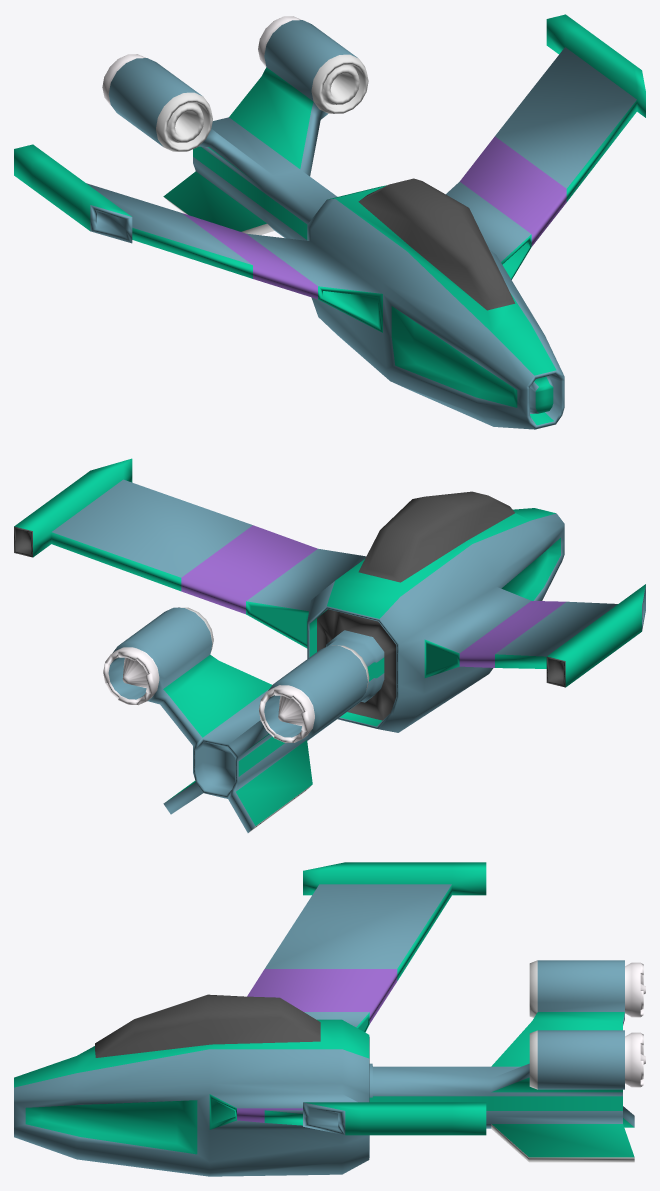
The model's file is spaceship.glb.
3 renders of one model, top to bottom at view 1: azimuth 30°, elevation 25°; view 2: azimuth 150°, elevation 25°; view 3: azimuth 270°, elevation 25°, orthographic. The views are drawn at different scales.
Parts seen in each view (by area): view 1: SpaceShip; view 2: SpaceShip; view 3: SpaceShip.
Part boxes in pixels (<box>): SpaceShip: <box>14,14,645,429</box>; SpaceShip: <box>14,458,645,832</box>; SpaceShip: <box>14,862,645,1176</box>.
Size of the model in its own units: 4.43 by 1.47 by 4.76.
